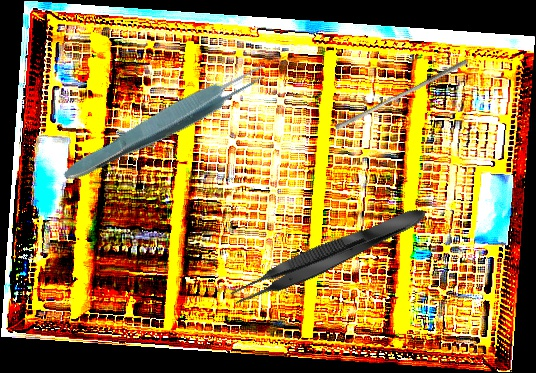Pusher: (334, 54, 469, 135)
Tissue Forceps: (57, 55, 276, 191), (225, 198, 433, 314)
